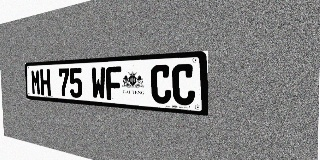5: (69, 68, 83, 98)
7: (58, 68, 70, 97)
C: (172, 64, 195, 106), (151, 64, 172, 104)
F: (106, 66, 122, 101)
H: (40, 69, 51, 96)
M: (31, 69, 41, 95)
W: (91, 67, 106, 100)
